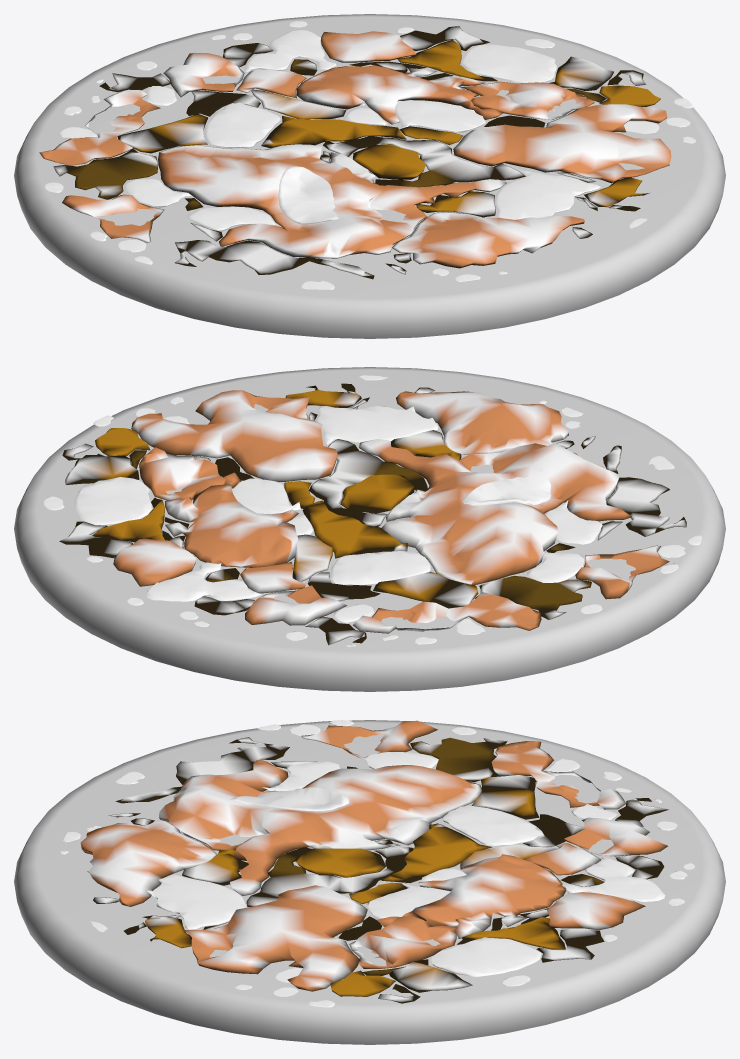
Rendered from SM_D20_spicy_wok.fbx.
3 renders of one model, top to bottom at view 1: azimuth 30°, elevation 25°; view 2: azimuth 150°, elevation 25°; view 3: azimuth 270°, elevation 25°, orthographic.
Parts seen in each view (by area): view 1: SM_D20_spicy_wok; view 2: SM_D20_spicy_wok; view 3: SM_D20_spicy_wok.
Part boxes in pixels (x1,y1,x2,y2): SM_D20_spicy_wok: (14,14,725,338); SM_D20_spicy_wok: (14,367,725,691); SM_D20_spicy_wok: (14,720,725,1044).
Bounding box in the file's own units: 0.158 × 0.0135 × 0.158.
